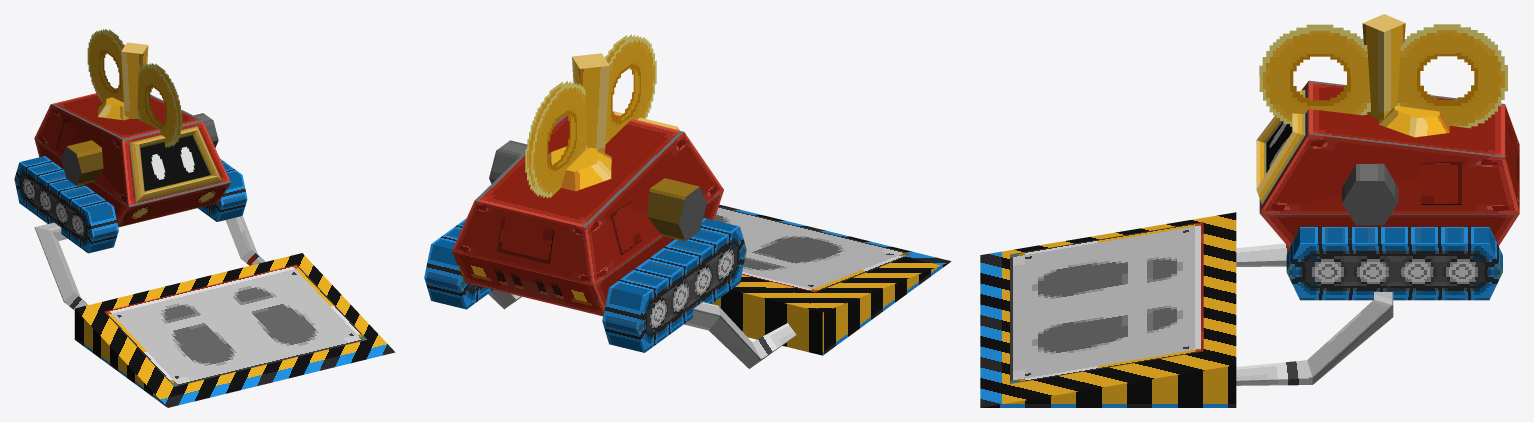
Rendered from popoi.glb.
3 views of the same model, side by side, from view 1: azimuth 30°, elevation 25°; view 2: azimuth 150°, elevation 25°; view 3: azimuth 270°, elevation 25° (orthographic). The views are drawn at different scales.
Visible parts, largest first — view 1: popoi; view 2: popoi; view 3: popoi.
Part boxes in pixels (left/top/right/bottom): popoi: left=14, top=29, right=395, bottom=407; popoi: left=424, top=34, right=951, bottom=368; popoi: left=980, top=14, right=1519, bottom=407.
Size of the model in its own units: 23.18 by 24.38 by 34.59.
1 material, 1 textured.
